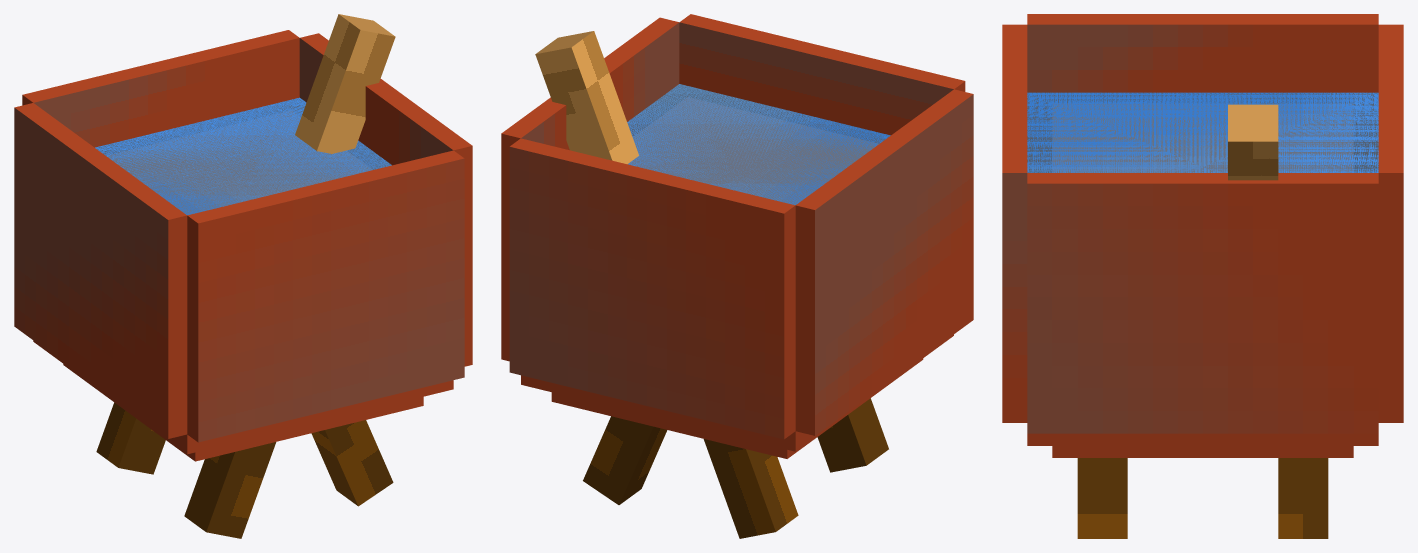
File: drawchili.obj
3 views of the same model, side by side, from view 1: azimuth 30°, elevation 25°; view 2: azimuth 150°, elevation 25°; view 3: azimuth 270°, elevation 25° (orthographic). The views are drawn at different scales.
Parts seen in each view (by area): view 1: cube; view 2: cube; view 3: cube.
Boxes of the visible parts, left/top/right/bottom form: cube: left=14, top=14, right=472, bottom=538; cube: left=501, top=14, right=973, bottom=538; cube: left=1002, top=14, right=1403, bottom=538.
Size of the model in its own units: 1.04 by 1.3 by 1.
